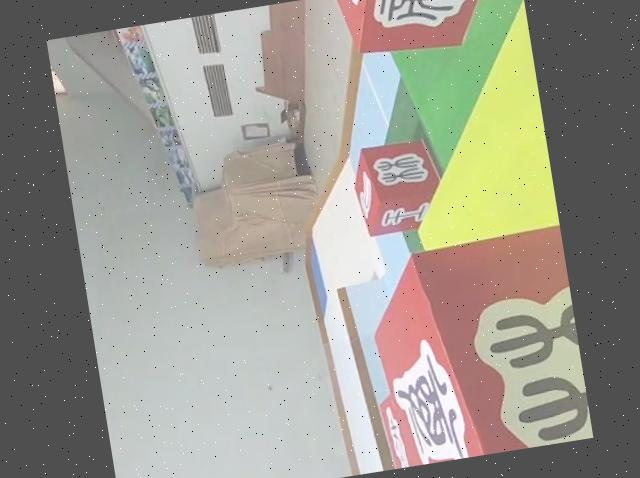R2 Fake: (357, 220, 594, 470), (328, 0, 522, 67), (344, 132, 450, 241)
